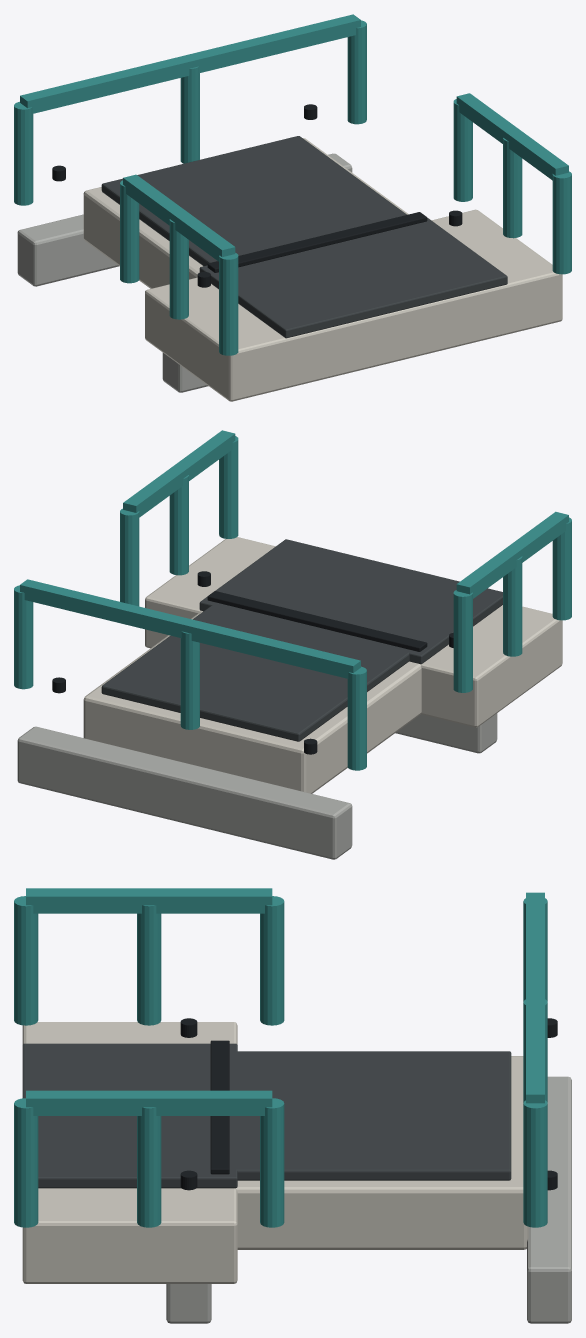
Rendered from BRG_LOCAL_DECK_1x1_END.glb.
3 renders of one model, top to bottom at view 1: azimuth 30°, elevation 25°; view 2: azimuth 150°, elevation 25°; view 3: azimuth 270°, elevation 25°, orthographic. The views are drawn at different scales.
Visible parts, largest first — view 1: BRG_LOCAL_DECK_1x1_END_Visual; view 2: BRG_LOCAL_DECK_1x1_END_Visual; view 3: BRG_LOCAL_DECK_1x1_END_Visual.
Part boxes in pixels (box(x1,y1,x2,y2)): BRG_LOCAL_DECK_1x1_END_Visual: box(14, 14, 571, 401); BRG_LOCAL_DECK_1x1_END_Visual: box(14, 430, 571, 859); BRG_LOCAL_DECK_1x1_END_Visual: box(14, 888, 571, 1323).
Size of what is drawn, in the model's own units: 1.45 by 0.7475 by 1.61.
